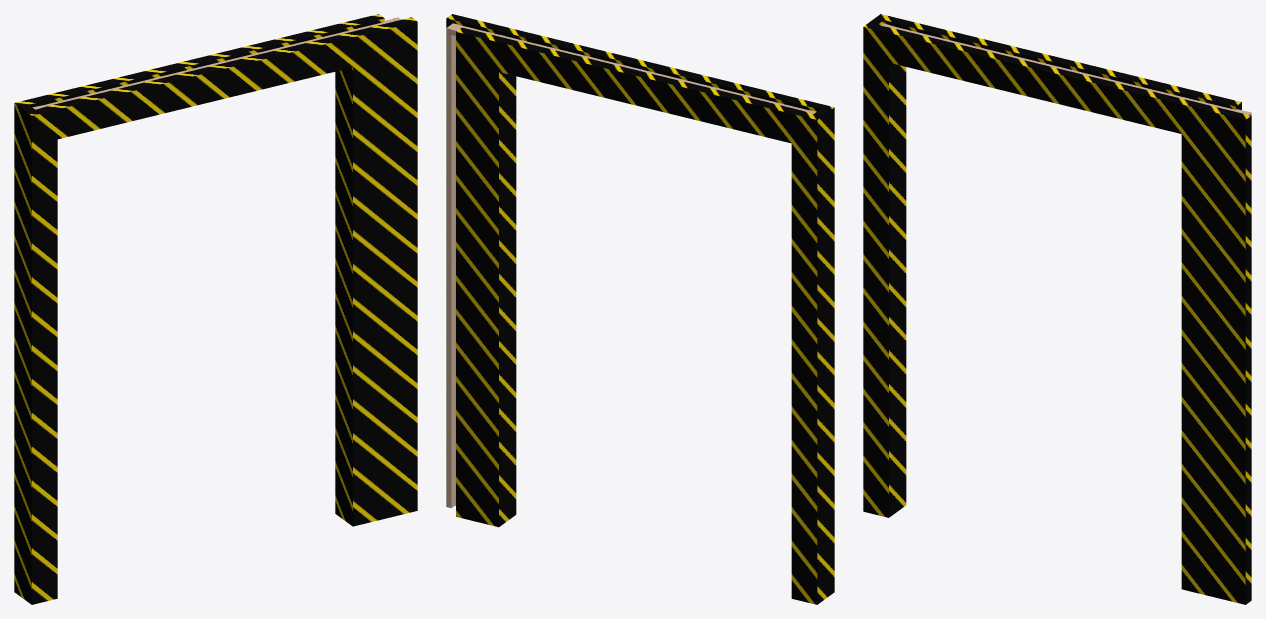
Rendered from WALLSET_U.FBX.
3 views of the same model, side by side, from view 1: azimuth 30°, elevation 25°; view 2: azimuth 150°, elevation 25°; view 3: azimuth 330°, elevation 25° (orthographic).
Visible parts, largest first — view 1: SELECTOR_14, FRAME_137; view 2: SELECTOR_14, FRAME_137; view 3: SELECTOR_14, FRAME_137.
Boxes of the visible parts, x1,y1,x2,y2 form: SELECTOR_14: (14, 14, 417, 604); FRAME_137: (32, 17, 400, 109); SELECTOR_14: (446, 14, 834, 604); FRAME_137: (446, 23, 816, 508); SELECTOR_14: (863, 14, 1251, 604); FRAME_137: (881, 23, 1251, 115).
Size of the model in its own units: 74.5 by 90.28 by 5.88.
